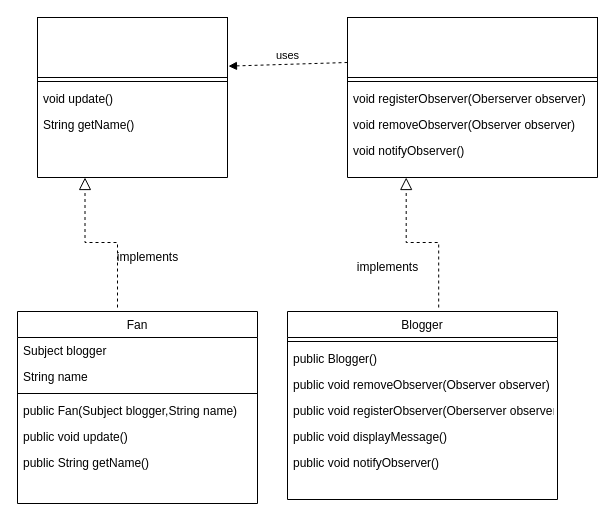
Image size: 615x521. Some labels were removed from this diagram. Each missing label, with the centre of its shape:
"«interface» Observer" belongs at (132,47).
"«interface» Subject" belongs at (472,47).
